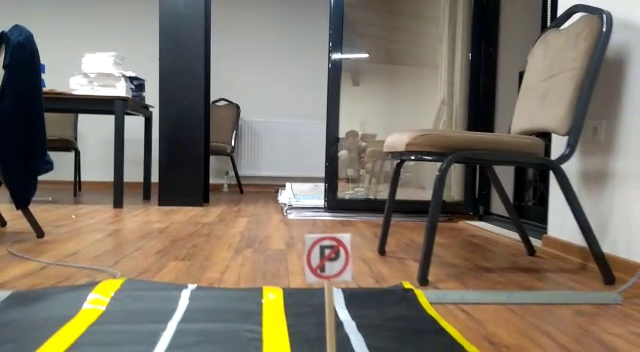park_yapilmaz: (305, 231, 352, 283)
